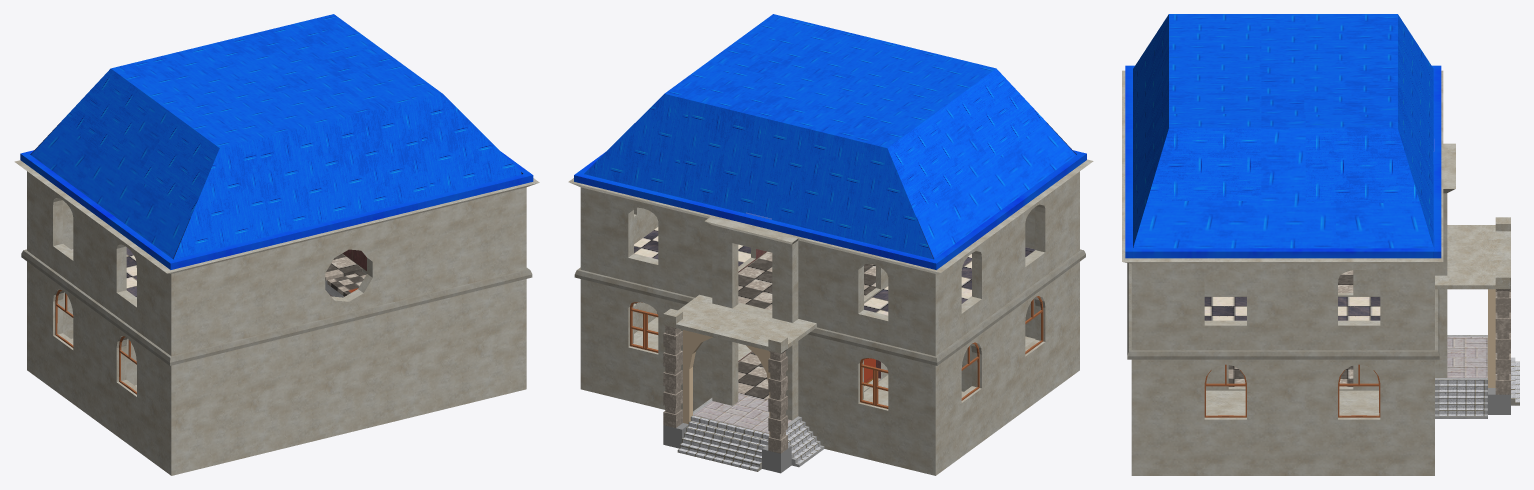
File: SmallPalaceGame.fbx
The picture shows the model from 3 angles, left to right: view 1: azimuth 30°, elevation 25°; view 2: azimuth 150°, elevation 25°; view 3: azimuth 270°, elevation 25°; orthographic projection. The views are drawn at different scales.
Visible parts, largest first — view 1: Main, PlaneRooftop, GrandStaircasePlane.002; view 2: Main, PlaneRooftop, Balcony, Staircase.003, ArchEntrance, Staircase.002, CubeEntrance001, Window, Window.001; view 3: PlaneRooftop, Main, Balcony, Staircase.001, ArchEntrance, CubeEntrance002, Window2, Window2.001, Staircase.003.
Part boxes in pixels (x1,y1,x2,y2): Main: (14, 160, 539, 475); PlaneRooftop: (20, 14, 533, 269); GrandStaircasePlane.002: (327, 271, 366, 296); Main: (568, 159, 1093, 475); PlaneRooftop: (574, 14, 1086, 269); Balcony: (663, 294, 816, 453); Staircase.003: (677, 415, 769, 471); ArchEntrance: (683, 330, 770, 436); Staircase.002: (786, 416, 824, 467); CubeEntrance001: (762, 445, 791, 473); Window: (860, 358, 888, 408); Window.001: (630, 302, 658, 352); PlaneRooftop: (1125, 14, 1441, 258); Main: (1122, 70, 1487, 475); Balcony: (1435, 217, 1510, 394); Staircase.001: (1435, 378, 1487, 418); ArchEntrance: (1488, 289, 1495, 387); CubeEntrance002: (1488, 388, 1510, 414); Window2: (1338, 364, 1380, 417); Window2.001: (1204, 364, 1246, 417); Staircase.003: (1496, 353, 1519, 405).
Bounding box in the file's own units: 1491 × 1142 × 1312.
Materials: 12 (9 with a texture image).
